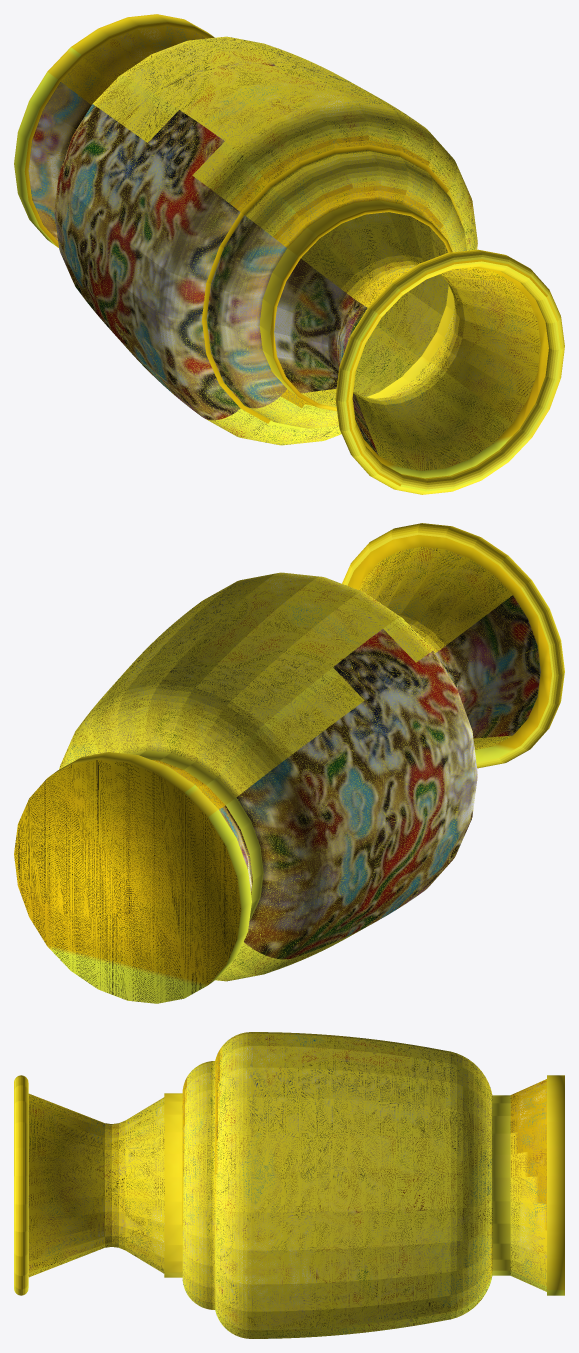
File: model_align.obj
3 views of the same model, one above another, from view 1: azimuth 30°, elevation 25°; view 2: azimuth 150°, elevation 25°; view 3: azimuth 270°, elevation 25° (orthographic). The views are drawn at different scales.
Parts seen in each view (by area): view 1: mesh1_mesh1-geometry; view 2: mesh1_mesh1-geometry; view 3: mesh1_mesh1-geometry.
Part boxes in pixels (<box>): mesh1_mesh1-geometry: <box>14,14,564,494</box>; mesh1_mesh1-geometry: <box>14,523,564,1003</box>; mesh1_mesh1-geometry: <box>14,1032,564,1338</box>.
Size of the model in its own units: 0.0723 by 0.0723 by 0.1294.
Materials: 6 (5 with a texture image).
